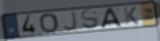4: (21, 14, 39, 36)
A: (100, 7, 124, 30)
J: (63, 10, 79, 32)
K: (122, 6, 140, 26)
O: (39, 12, 59, 33)
S: (80, 9, 101, 30)
